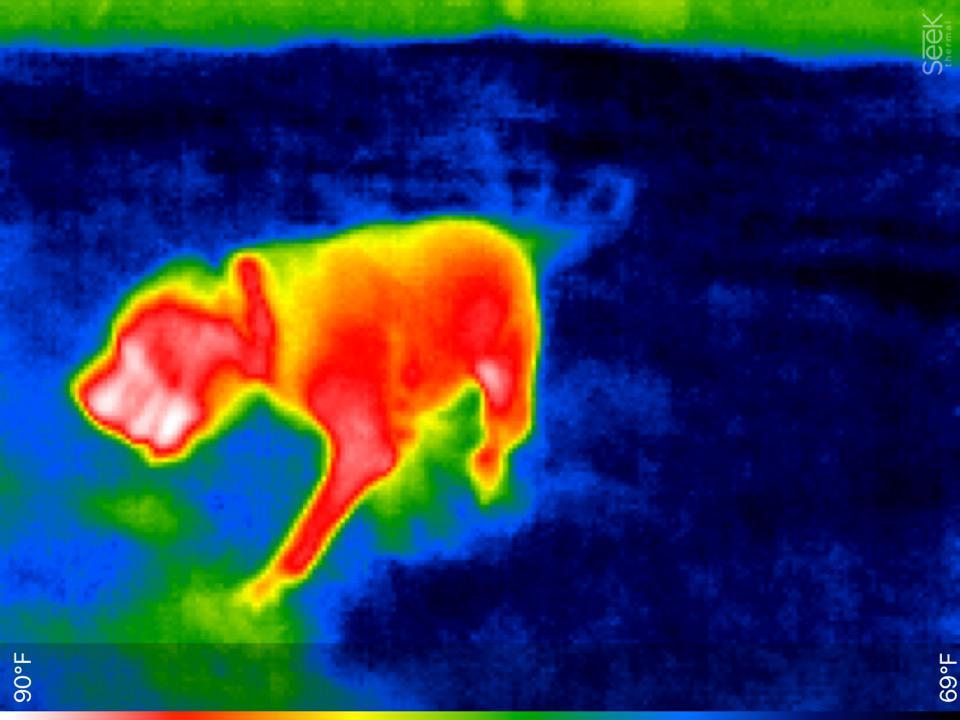dog: (65, 215, 541, 610)
